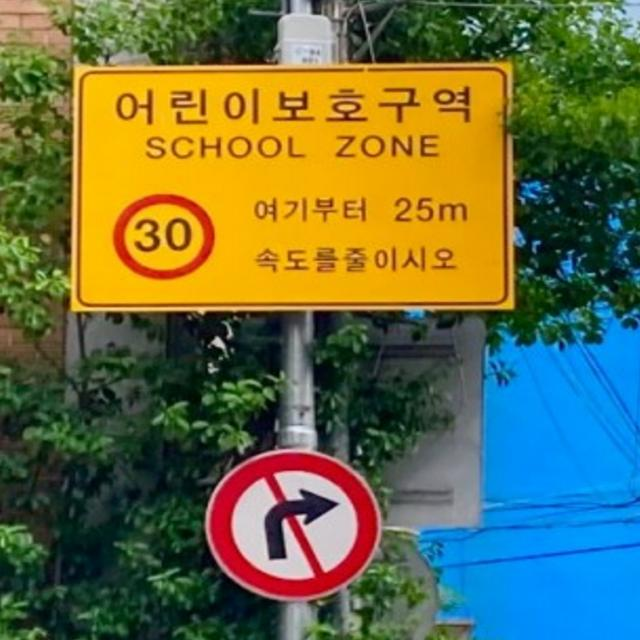regulatory_Maximum_Speed_limit: (108, 186, 228, 288)
regulatory_No_right_turn: (183, 435, 400, 614)
